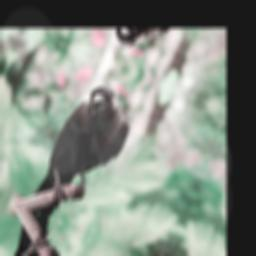Crow: (27, 75, 142, 233)
